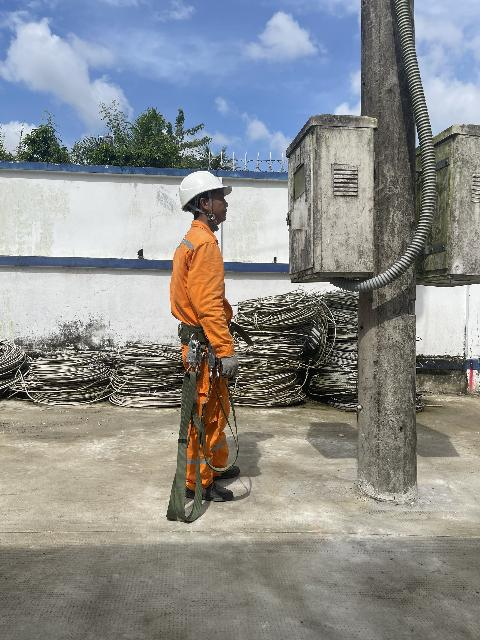gloves: (213, 347, 248, 381)
harness: (163, 313, 240, 353)
helmet: (178, 166, 239, 211)
shoes: (178, 466, 240, 509), (202, 445, 249, 484)
